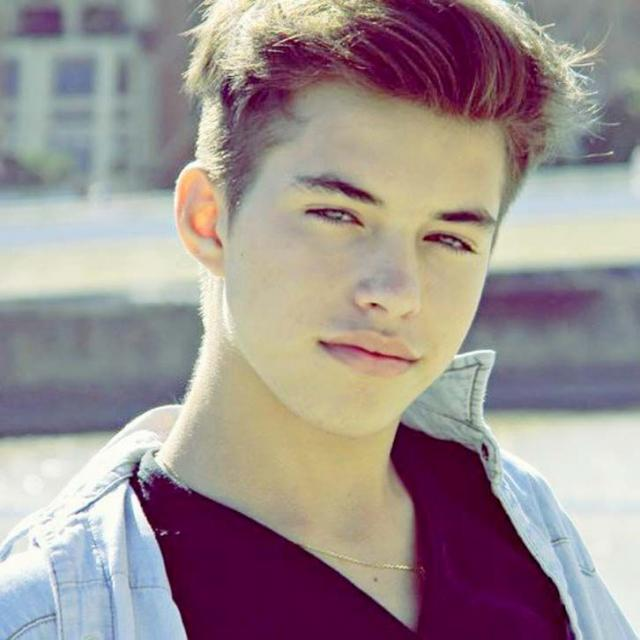earlobe: (202, 244, 226, 277)
eye: (422, 231, 476, 254), (305, 206, 364, 227)
nose: (357, 296, 427, 346)
wholeear: (174, 162, 226, 277)
